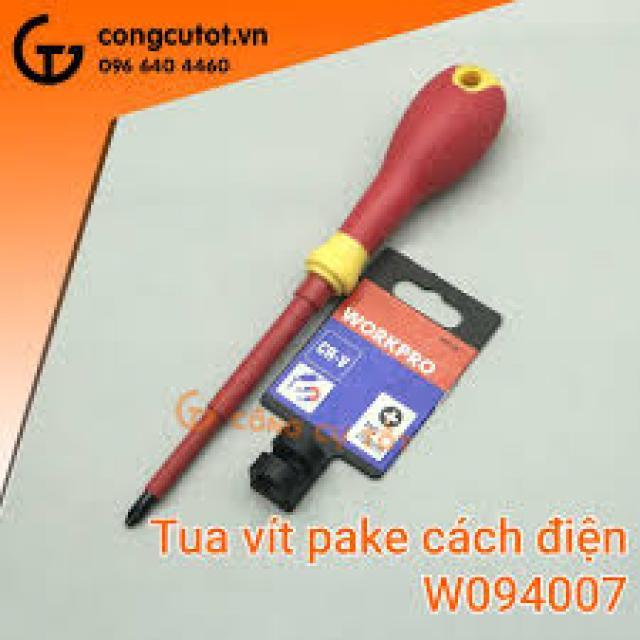screwdriver: (120, 60, 510, 532)
